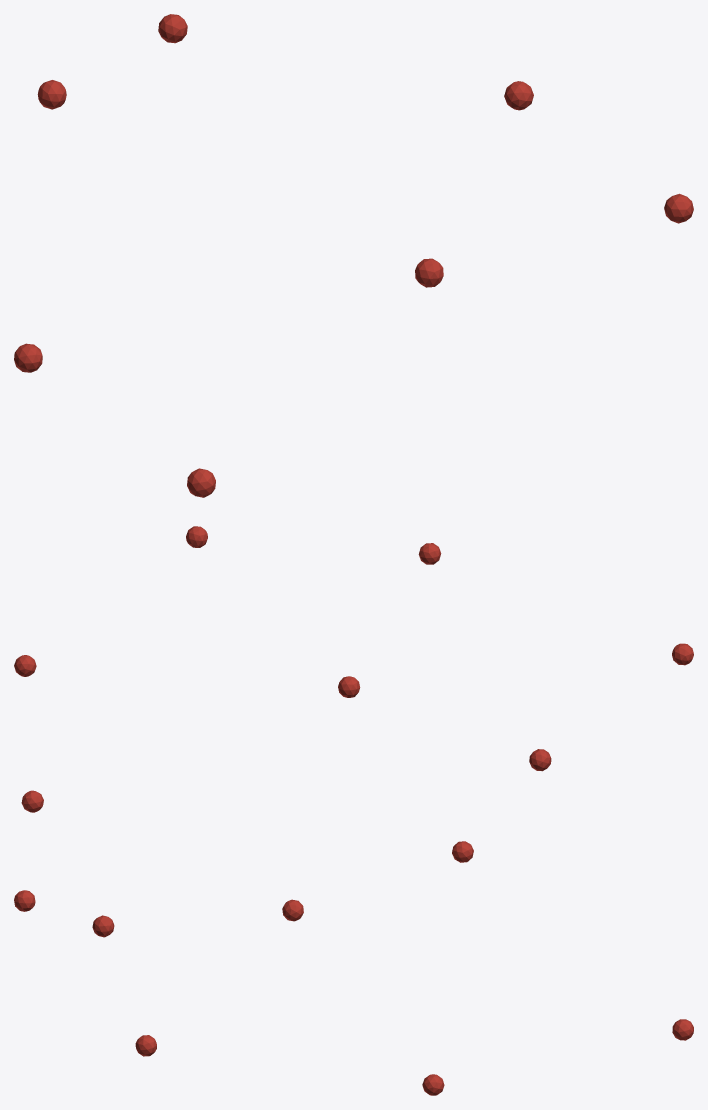
Rendered from rdbrrs12.fbx.
3 renders of one model, top to bottom at view 1: azimuth 30°, elevation 25°; view 2: azimuth 150°, elevation 25°; view 3: azimuth 270°, elevation 25°, orthographic. The views are drawn at different scales.
Visible parts, largest first — view 1: Mball.004; view 2: Mball.004; view 3: Mball.004.
Boxes of the visible parts, x1,y1,x2,y2 form: Mball.004: (14, 14, 693, 497); Mball.004: (14, 526, 693, 812); Mball.004: (14, 841, 693, 1095).
Size of the model in its own units: 41.28 by 11.05 by 52.96.
